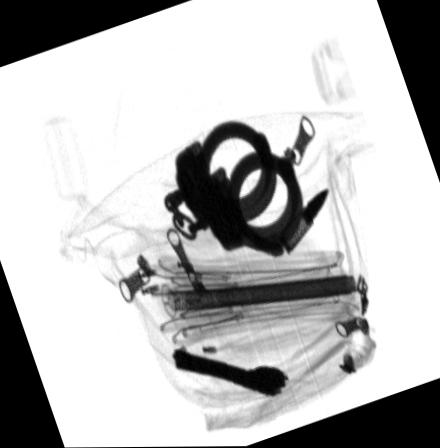Bullet: (279, 188, 328, 258)
Gun: (174, 352, 285, 398)
HandCuffs: (157, 118, 301, 263)
